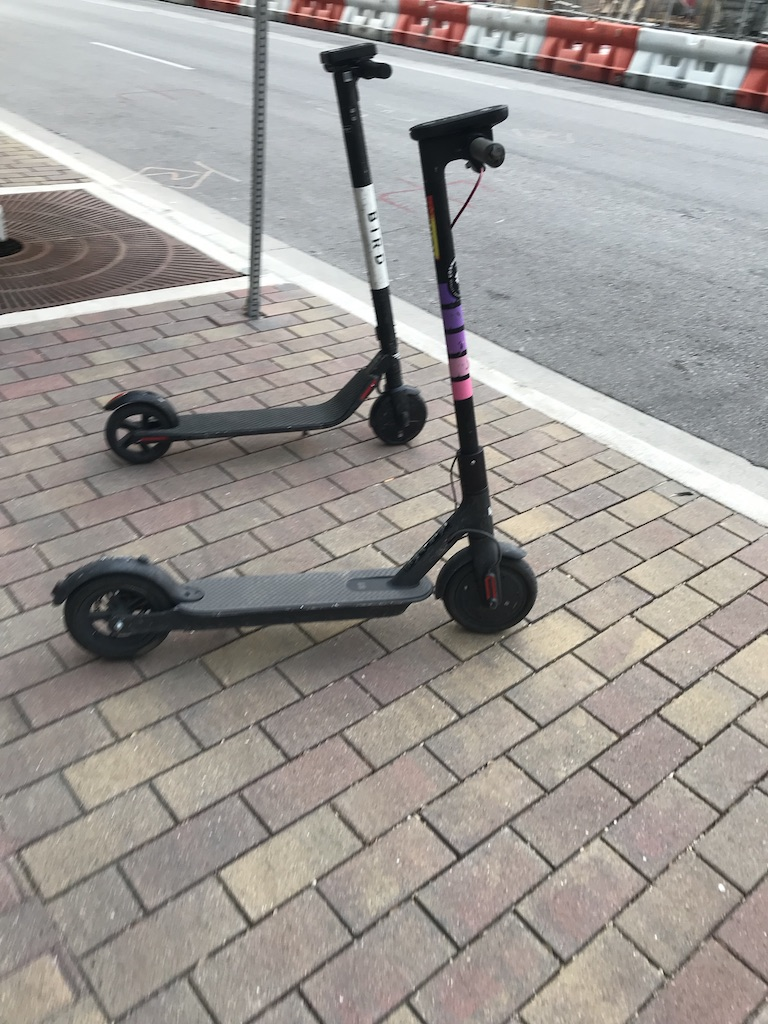scooter: (53, 108, 533, 661), (105, 43, 430, 464)
